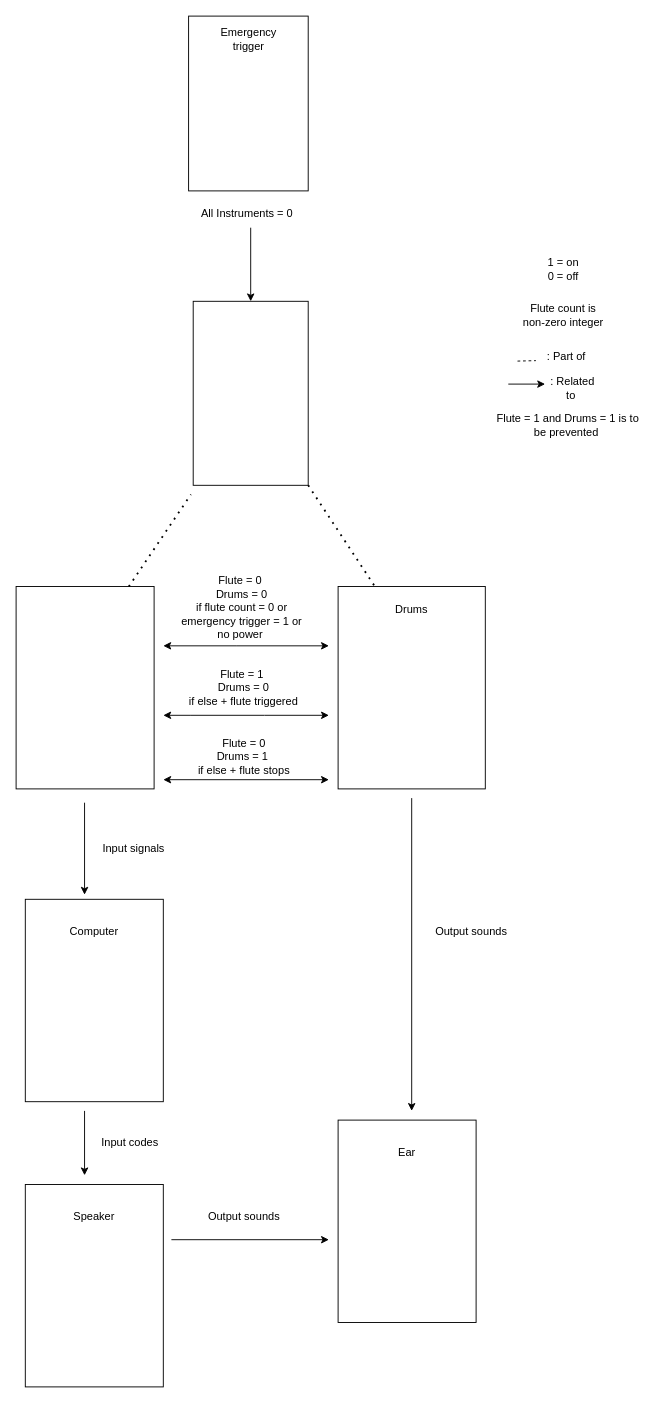
Some shapes in this 658 by 1403 pixel diagram are drawn without their labels. The shapes that lost their labels are listed below. From the top down, each one's centre as x and y in pixels, then its label:
the point at 250,392: Instruments
the point at 84,687: Flute
